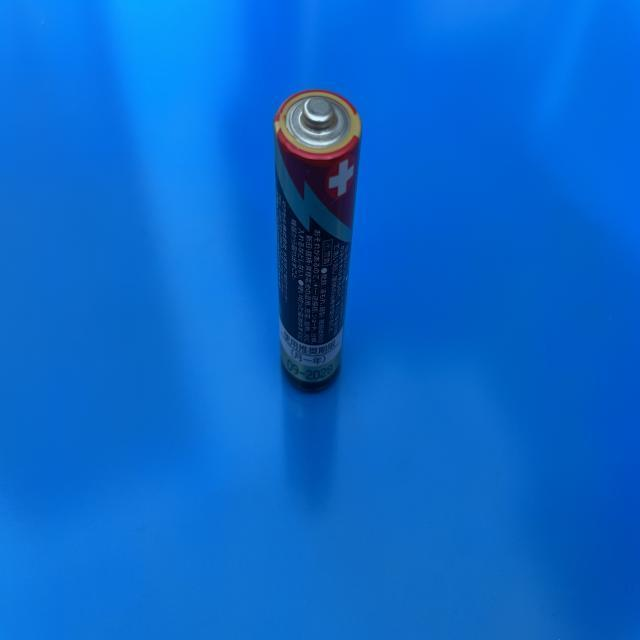AAA: (271, 88, 362, 398)
